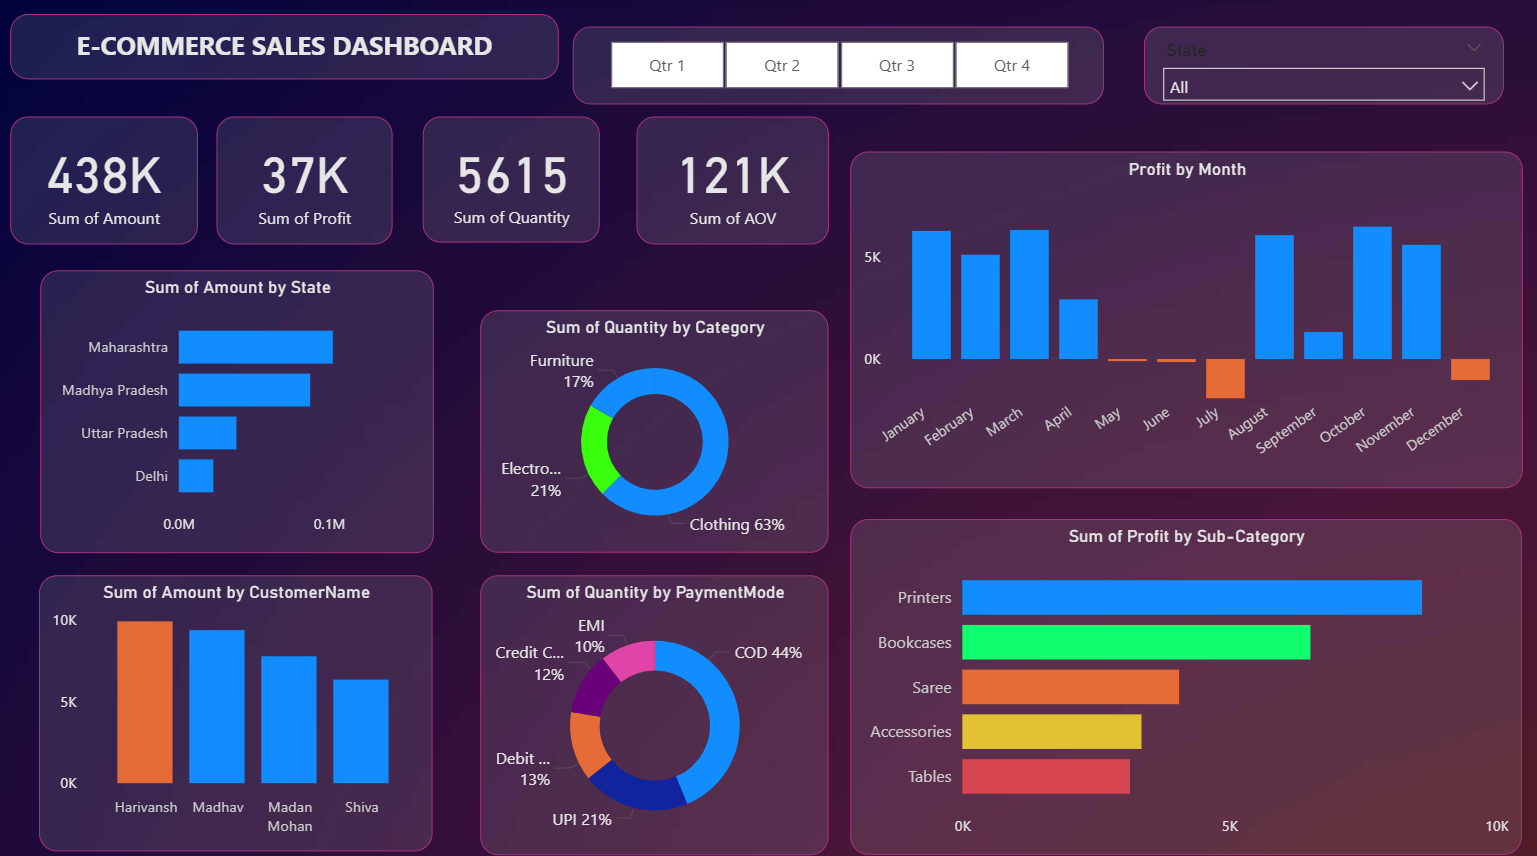

The page's visual inventory and layout, read from the dashboard file:
{"tool":"powerbi","page":{"name":"Page 1","canvas":[1280,720],"ordinal":0},"visuals":[{"type":"textbox","box":[9.4,12.5,456.2,54],"z":0},{"type":"clusteredColumnChart","title":"Profit by Month","fields":{"Y":["Sum(Details.Profit)"],"Category":["Orders.Order Date.Variation.Date Hierarchy.Month"]},"box":[708.1,126.7,559.3,280.2],"z":1000},{"type":"barChart","fields":{"Category":["Details.Sub-Category"],"Y":["Sum(Details.Profit)"]},"box":[708.1,432.6,558.1,279.1],"z":2000},{"type":"donutChart","fields":{"Category":["Details.Category"],"Y":["Sum(Details.Quantity)"]},"box":[400.1,258.8,290,201.6],"z":3000},{"type":"donutChart","fields":{"Y":["Sum(Details.Quantity)"],"Category":["Details.PaymentMode"]},"box":[400.1,479.1,290,232.8],"z":4000},{"type":"card","fields":{"Values":["Sum(Details.Amount)"]},"box":[9.4,97.7,155.9,106],"z":5000},{"type":"card","fields":{"Values":["Sum(Details.Quantity)"]},"box":[352.3,97.7,147.6,105],"z":6000},{"type":"card","fields":{"Values":["Sum(Details.Profit)"]},"box":[180.8,97.7,146.5,106],"z":7000},{"type":"card","fields":{"Values":["Sum(Details.AOV)"]},"box":[530,97.7,160,106],"z":8000},{"type":"barChart","fields":{"Y":["Sum(Details.Amount)"],"Category":["Orders.State"]},"box":[34.3,225.5,327.4,234.9],"z":9000},{"type":"columnChart","fields":{"Category":["Orders.CustomerName"],"Y":["Sum(Details.Amount)"]},"box":[33.3,479.1,327.4,229.7],"z":10000},{"type":"slicer","fields":{"Values":["Orders.Order Date.Variation.Date Hierarchy.Quarter"]},"box":[477.5,23.3,441.9,64.5],"z":12000},{"type":"slicer","fields":{"Values":["Orders.State"]},"box":[952,22.9,299.3,64.4],"z":12001}]}

Visuals, with their boxes in screenshot pixels (x1, y1, x2, y2), scaled from the page's 1280x720 canvas onto the 1537x856 screenshot:
textbox: left=11, top=15, right=559, bottom=79
"Profit by Month" clusteredColumnChart: left=850, top=151, right=1522, bottom=484
barChart - Details.Sub-Category x Sum(Details.Profit): left=850, top=514, right=1520, bottom=846
donutChart - Details.Category x Sum(Details.Quantity): left=480, top=308, right=829, bottom=547
donutChart - Sum(Details.Quantity) x Details.PaymentMode: left=480, top=570, right=829, bottom=846
card - Sum(Details.Amount): left=11, top=116, right=198, bottom=242
card - Sum(Details.Quantity): left=423, top=116, right=600, bottom=241
card - Sum(Details.Profit): left=217, top=116, right=393, bottom=242
card - Sum(Details.AOV): left=636, top=116, right=829, bottom=242
barChart - Sum(Details.Amount) x Orders.State: left=41, top=268, right=434, bottom=547
columnChart - Orders.CustomerName x Sum(Details.Amount): left=40, top=570, right=433, bottom=843
slicer - Orders.Order Date.Variation.Date Hierarchy.Quarter: left=573, top=28, right=1104, bottom=104
slicer - Orders.State: left=1143, top=27, right=1503, bottom=104
